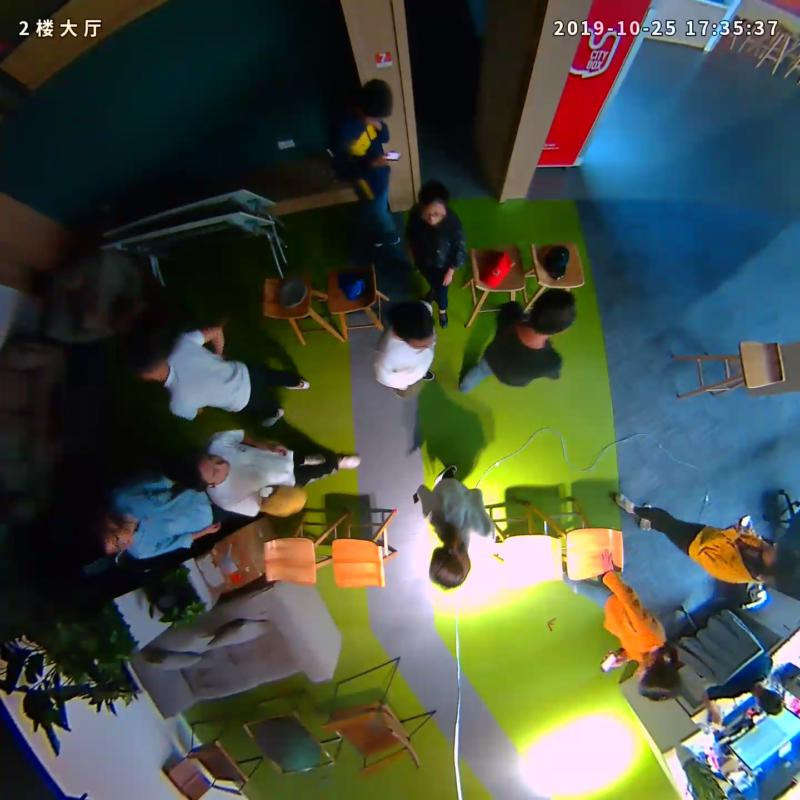head: (116, 332, 170, 384), (388, 299, 438, 349), (82, 510, 139, 553), (529, 287, 577, 338), (636, 651, 682, 701), (352, 79, 395, 129), (429, 543, 472, 590), (179, 450, 230, 488), (762, 539, 800, 582), (416, 179, 447, 226)
